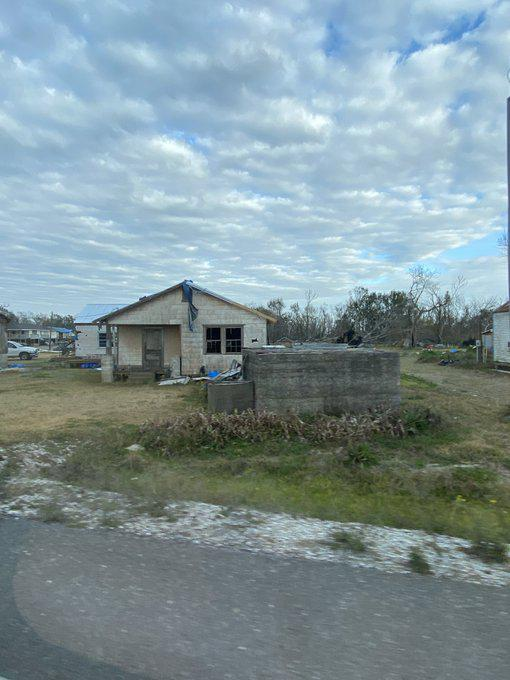minor: (82, 272, 284, 395)
